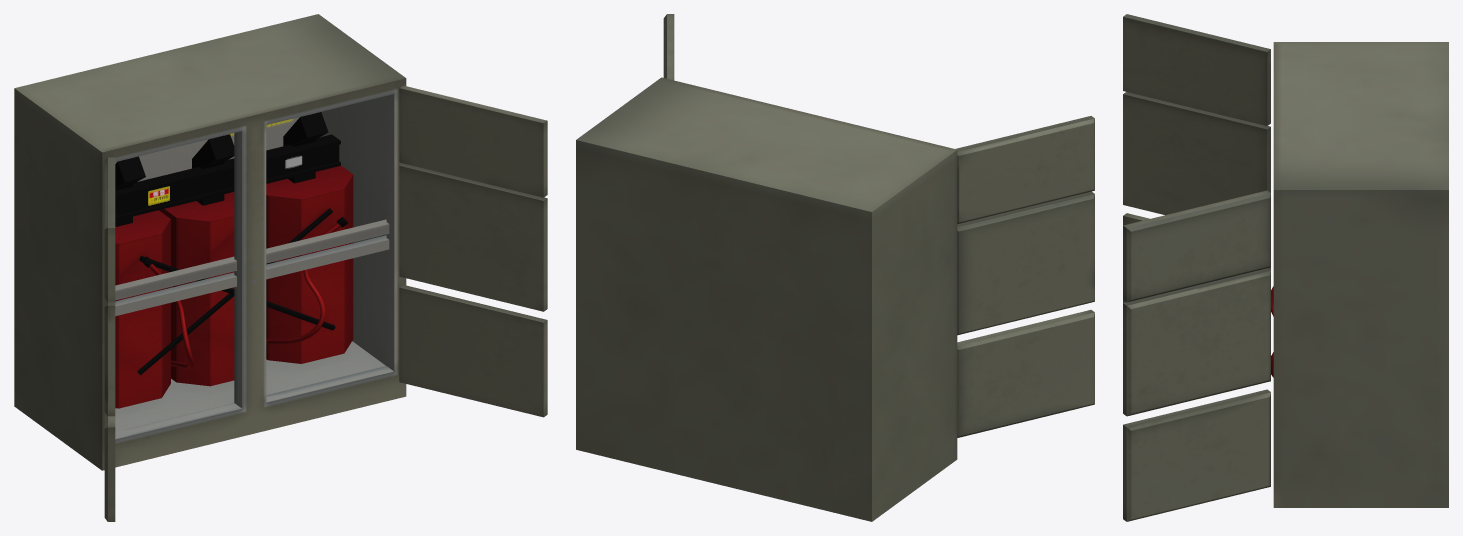
The model's file is Elec_DistributorOpen.fbx.
3 renders of one model, left to right at view 1: azimuth 30°, elevation 25°; view 2: azimuth 150°, elevation 25°; view 3: azimuth 270°, elevation 25°, orthographic. The views are drawn at different scales.
Visible parts, largest first — view 1: ElecDistributorOpen; view 2: ElecDistributorOpen; view 3: ElecDistributorOpen.
Boxes of the visible parts, x1,y1,x2,y2 form: ElecDistributorOpen: (14,14,547,521); ElecDistributorOpen: (576,14,1094,521); ElecDistributorOpen: (1123,14,1448,521).
Bounding box in the file's own units: 2.91 × 2 × 1.86.
